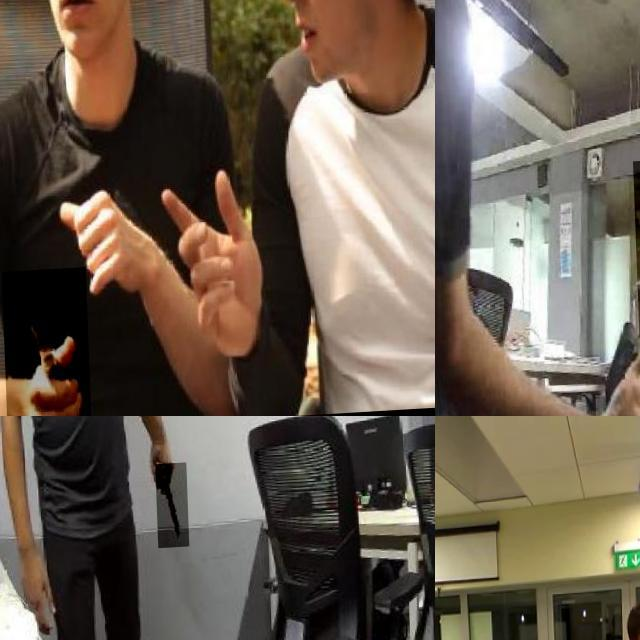-: (0, 268, 86, 416), (152, 466, 186, 552)
